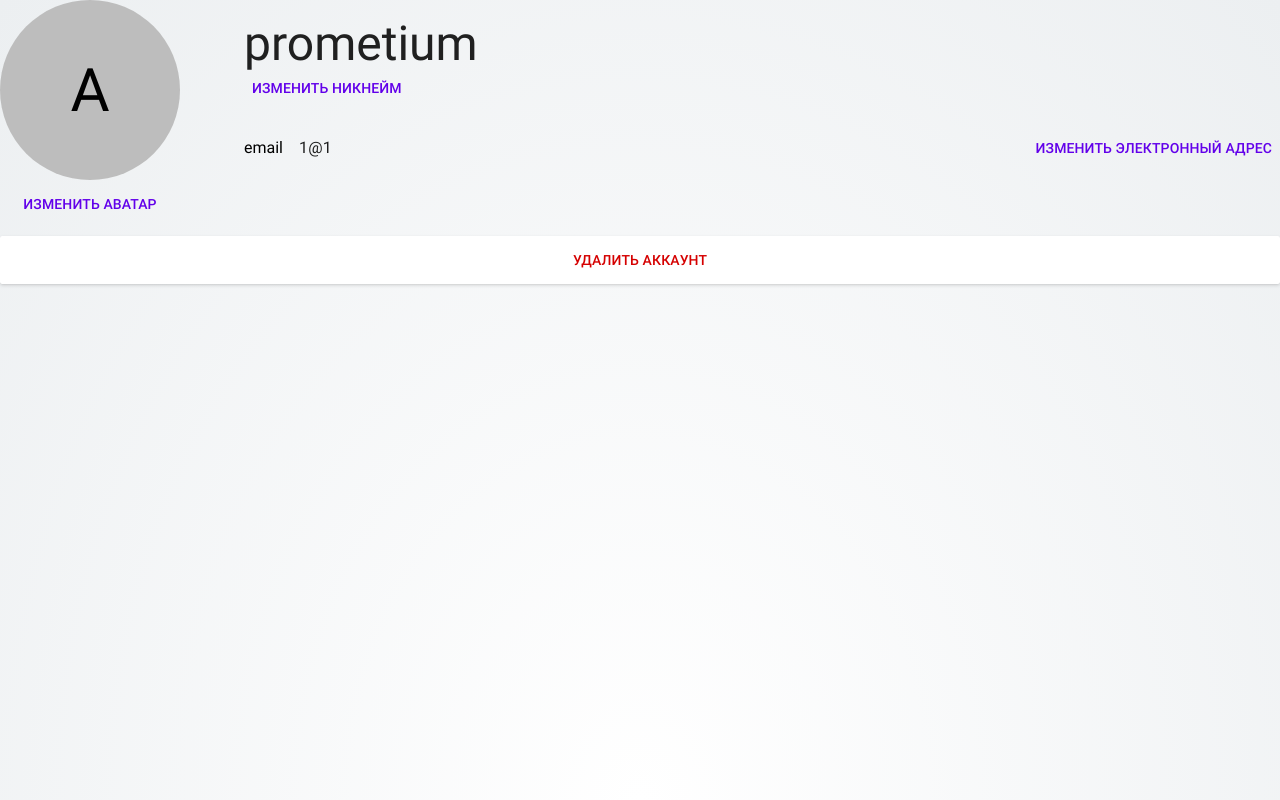
Test: edit nickname
The width and height of the screenshot is (1280, 800).
Expected: the heading "prometium" is shown, [244,15,478,72]
Click the button "Изменить никнейм" at x=327, y=88, box [244,72,410,104]
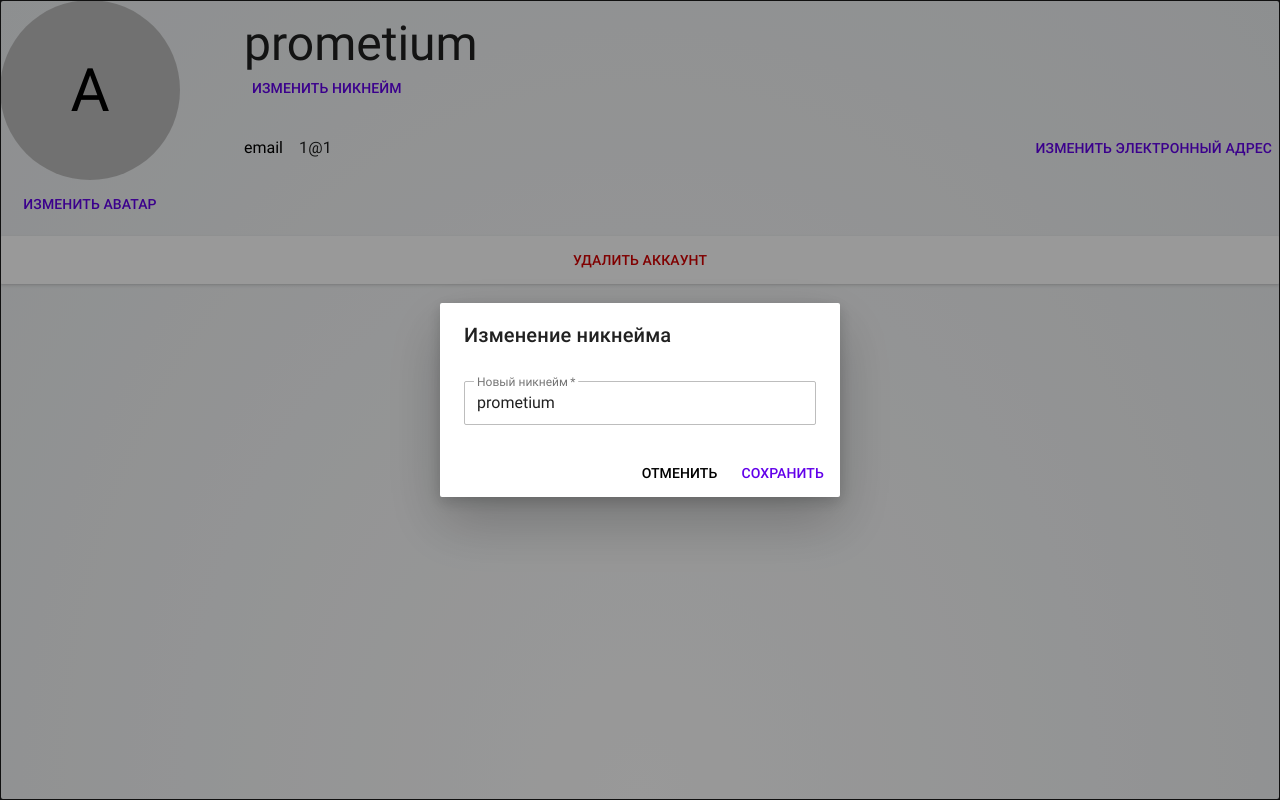
Replace the text in the field labelled "Новый никнейм" with "promet1um" at x=640, y=403, box [464,381,816,425]
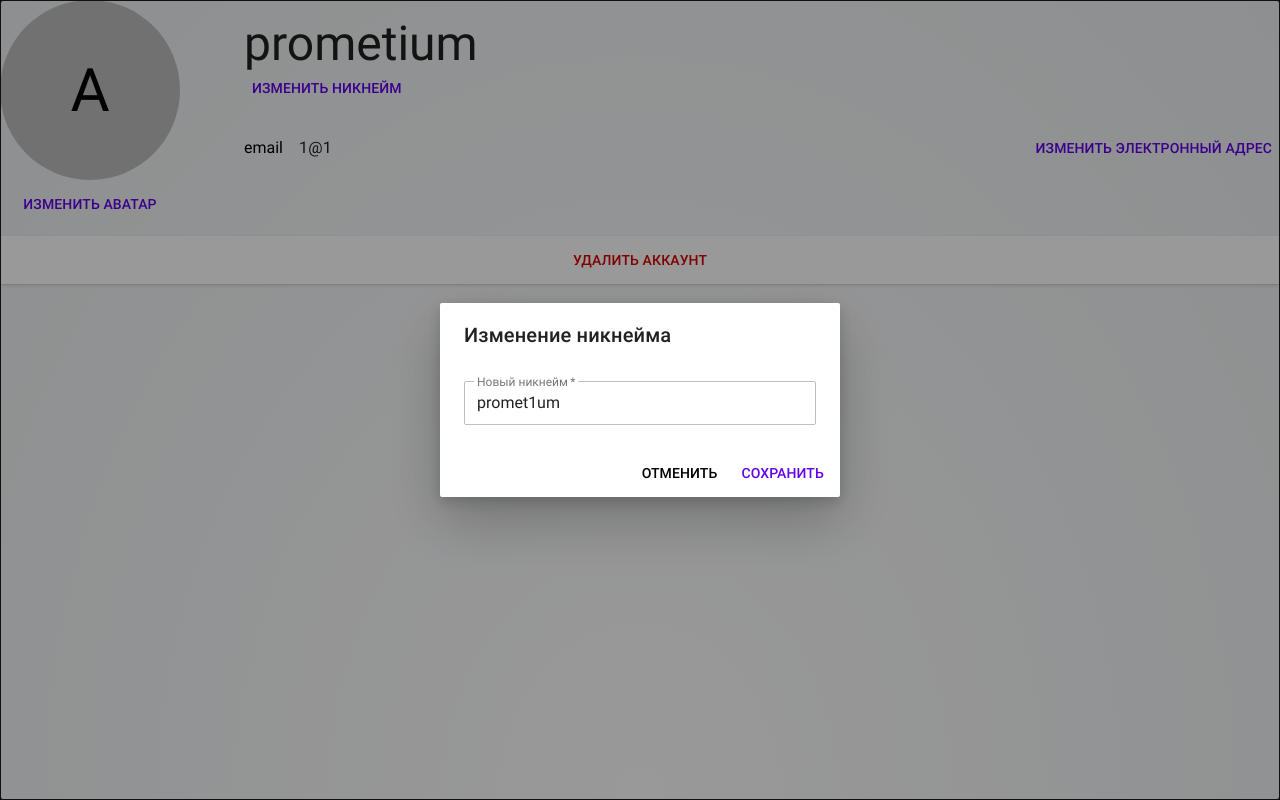
Click the button "Сохранить" at x=783, y=473, box [733,457,832,489]
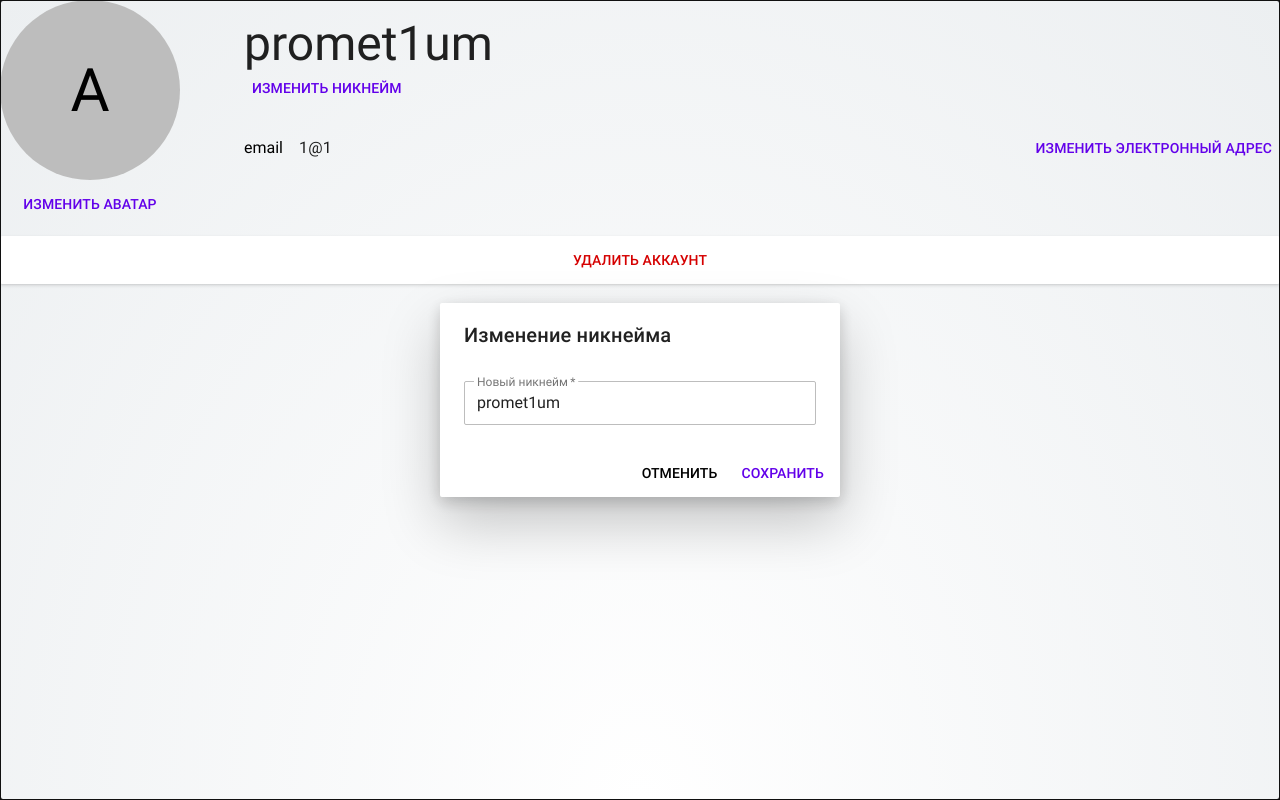
Result: the heading "promet1um" is shown at [244,15,493,72]
